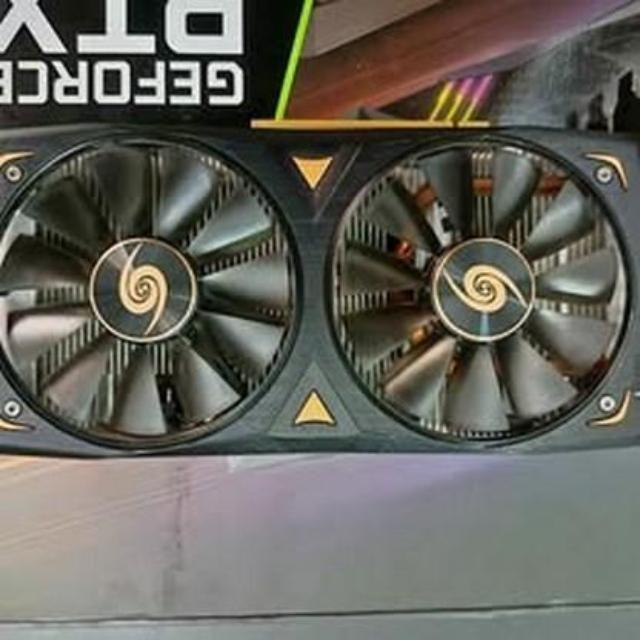GPU: (0, 94, 640, 474)
